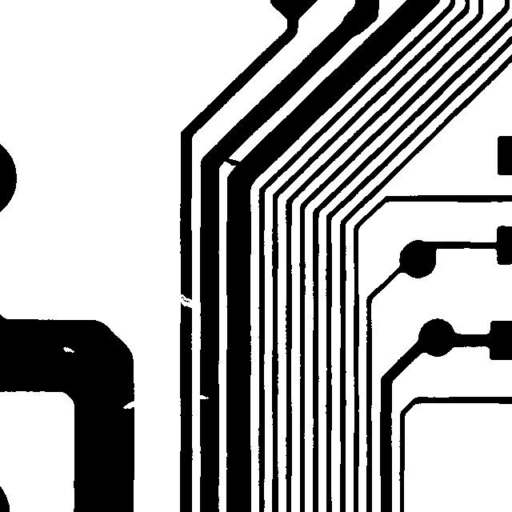mousebite: (115, 393, 145, 416), (189, 387, 216, 406)
open: (169, 286, 201, 315)
pin-hole: (55, 339, 82, 360)
short: (216, 150, 248, 173)
